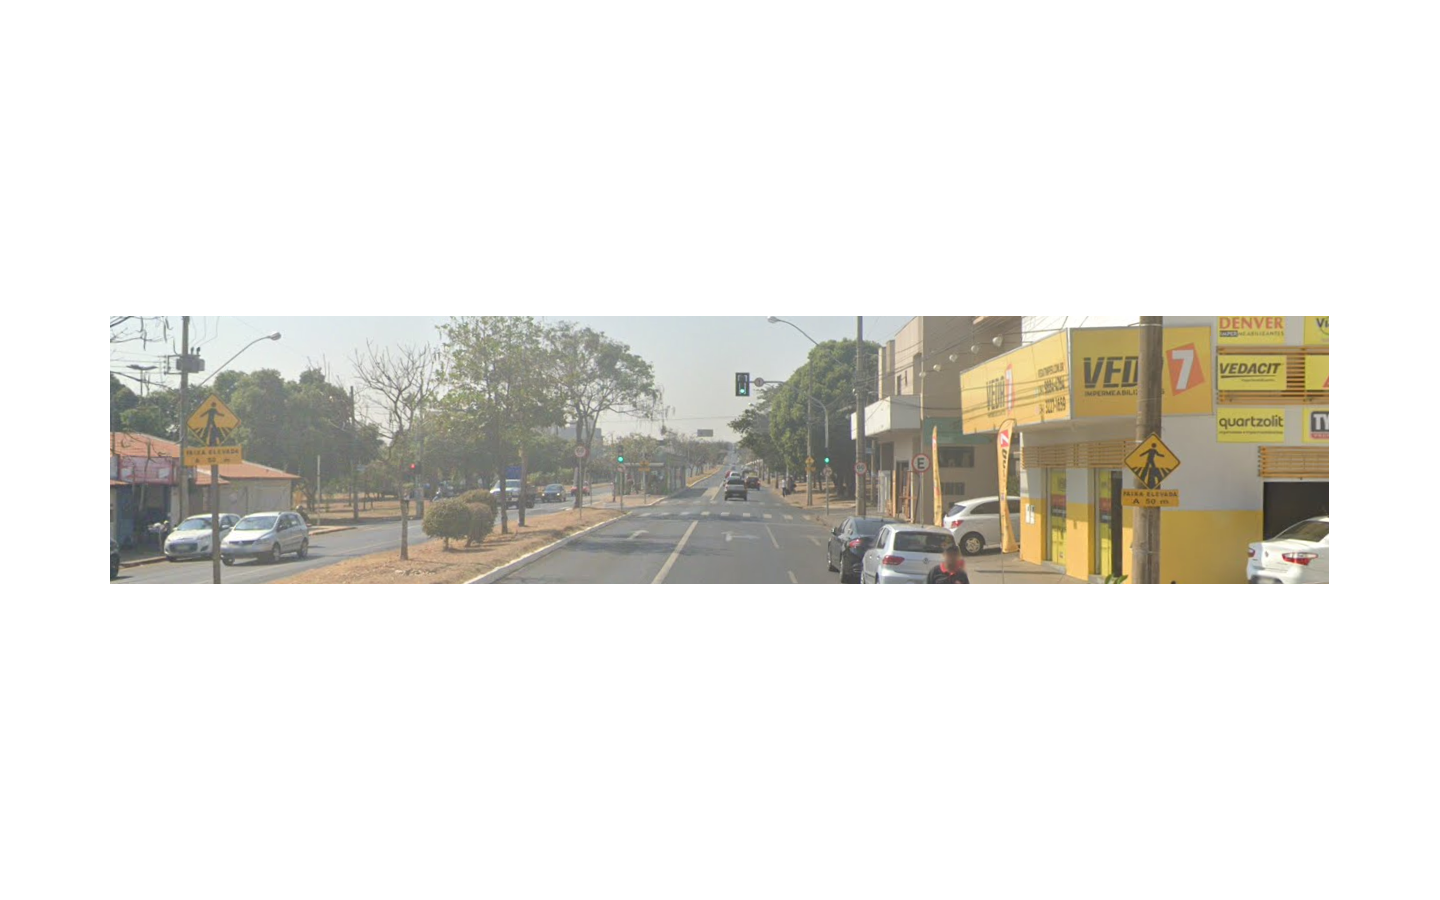t50m: (1121, 433, 1180, 506), (183, 393, 241, 465)
